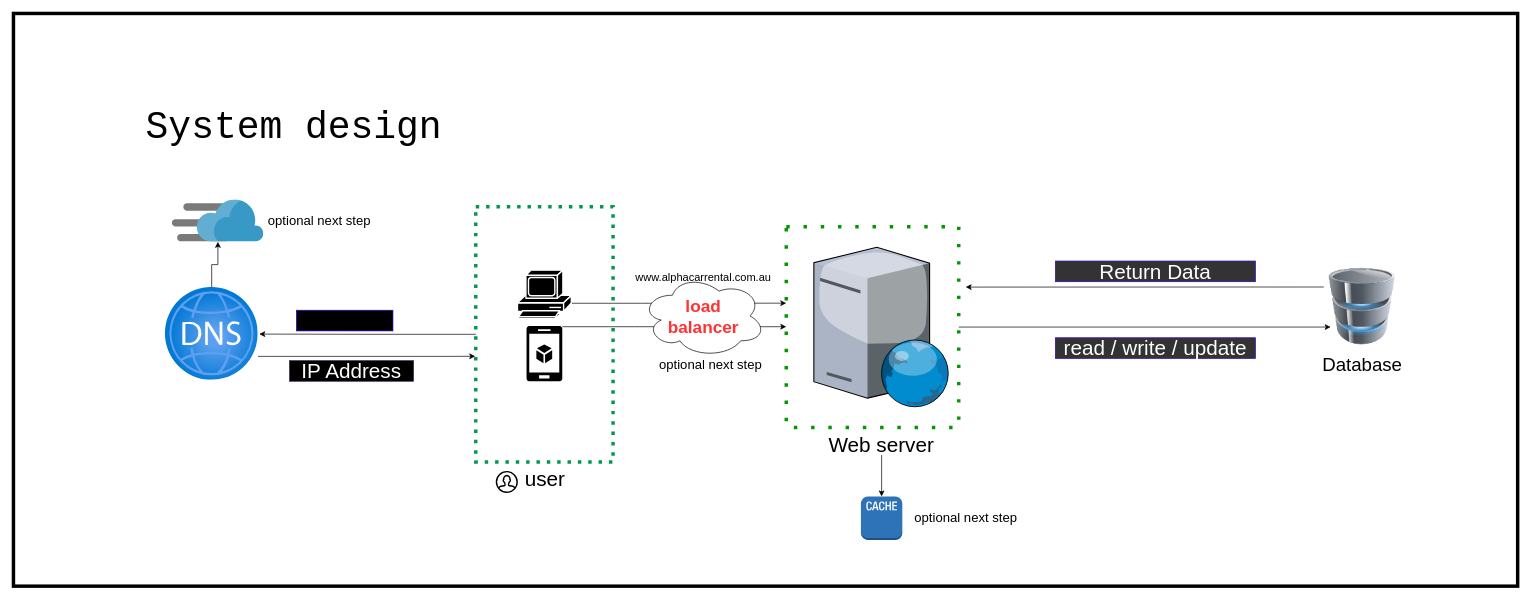
This 1531x600 diagram has some shape labels left out. Here are the shapes that lost their labels. From the top down, the centre of each, then its label:
At point (217, 220): "cdn".
At point (344, 320): "Request".
